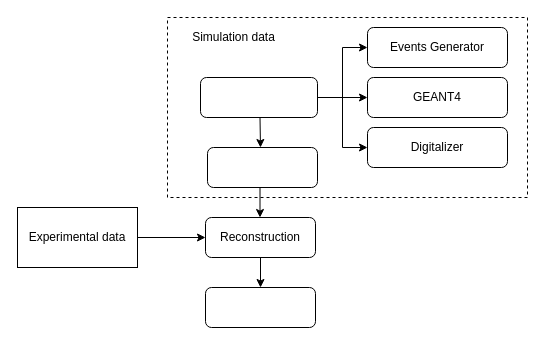
Image size: 545x345. Some labels were removed from this diagram. The shapes that lost their labels are listed below. From the top down, each one's centre as x and y in pixels, then its label:
At point 259,97: "GEMC".
At point 262,167: "Converter".
At point 260,307: "DATA".
